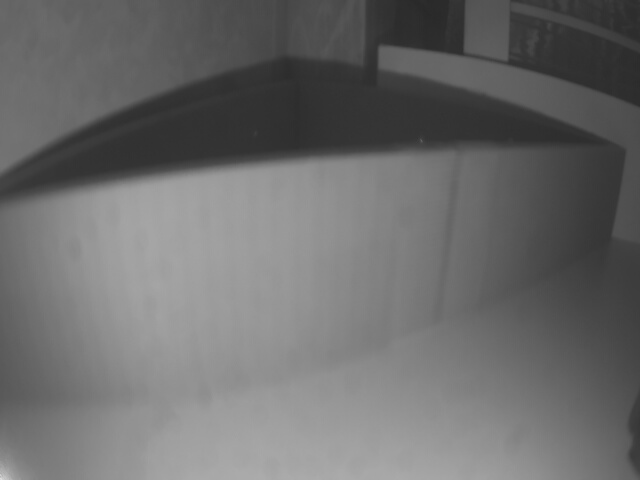Point: (0, 142, 630, 409)
